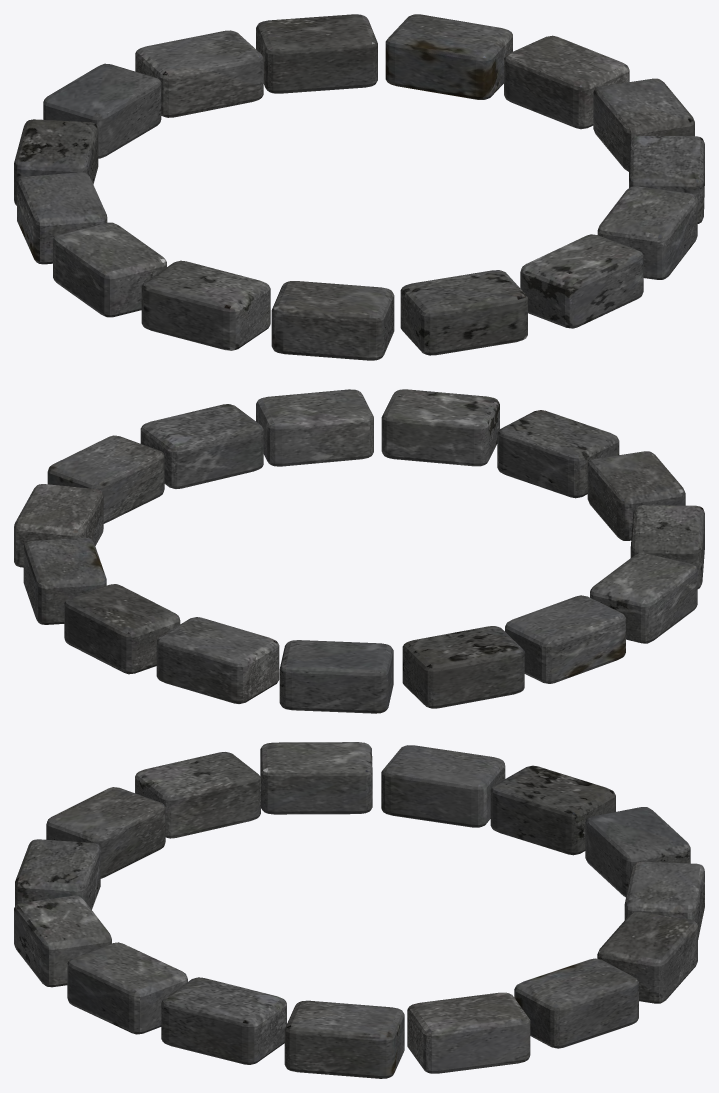
The model's file is Stones.fbx.
The picture shows the model from 3 angles, top to bottom: view 1: azimuth 30°, elevation 25°; view 2: azimuth 150°, elevation 25°; view 3: azimuth 270°, elevation 25°; orthographic projection. The views are drawn at different scales.
Visible parts, largest first — view 1: defaultMaterial; view 2: defaultMaterial; view 3: defaultMaterial.
Part boxes in pixels (x1,y1,x2,y2): defaultMaterial: (14, 14, 704, 360); defaultMaterial: (14, 389, 704, 713); defaultMaterial: (14, 742, 704, 1078).
Bounding box in the file's own units: 200 × 14.57 × 197.
Materials: 1 (1 with a texture image).
